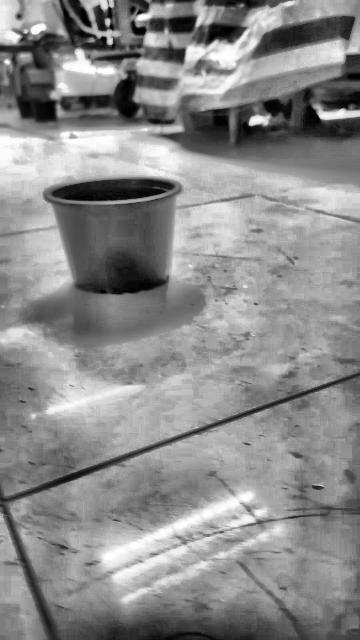pot: (44, 177, 181, 294)
